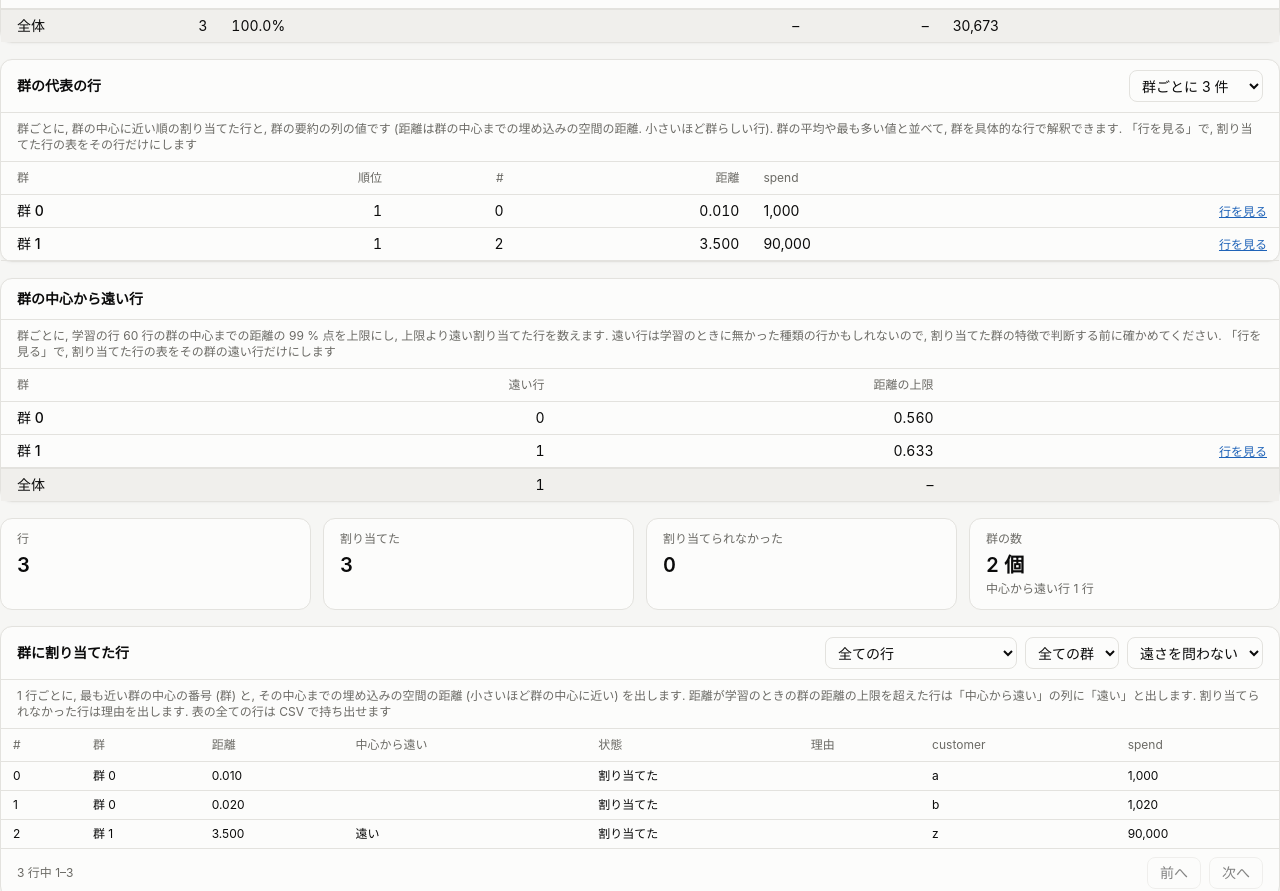
Test: 群の中心から遠い行のある群分けの結果の画面 › 群ごとの遠い行の件数と上限, 行の印を出し, 遠さで行を絞る
Later steps or results of the test are not shown.
(page scrolled)
Expected: the text "中心から遠い行 1 行" is shown, [986, 581, 1094, 596]
Expected: the column headings read "群", "遠い行", "距離の上限", "遠い行を見る", in this order, [1, 369, 279, 402]; [279, 369, 557, 402]; [557, 369, 946, 402]; [946, 369, 1279, 402]
Select "遠くない行" in the 4th dropdown named "遠さで絞る" at (1195,653), box [1127, 637, 1263, 669]
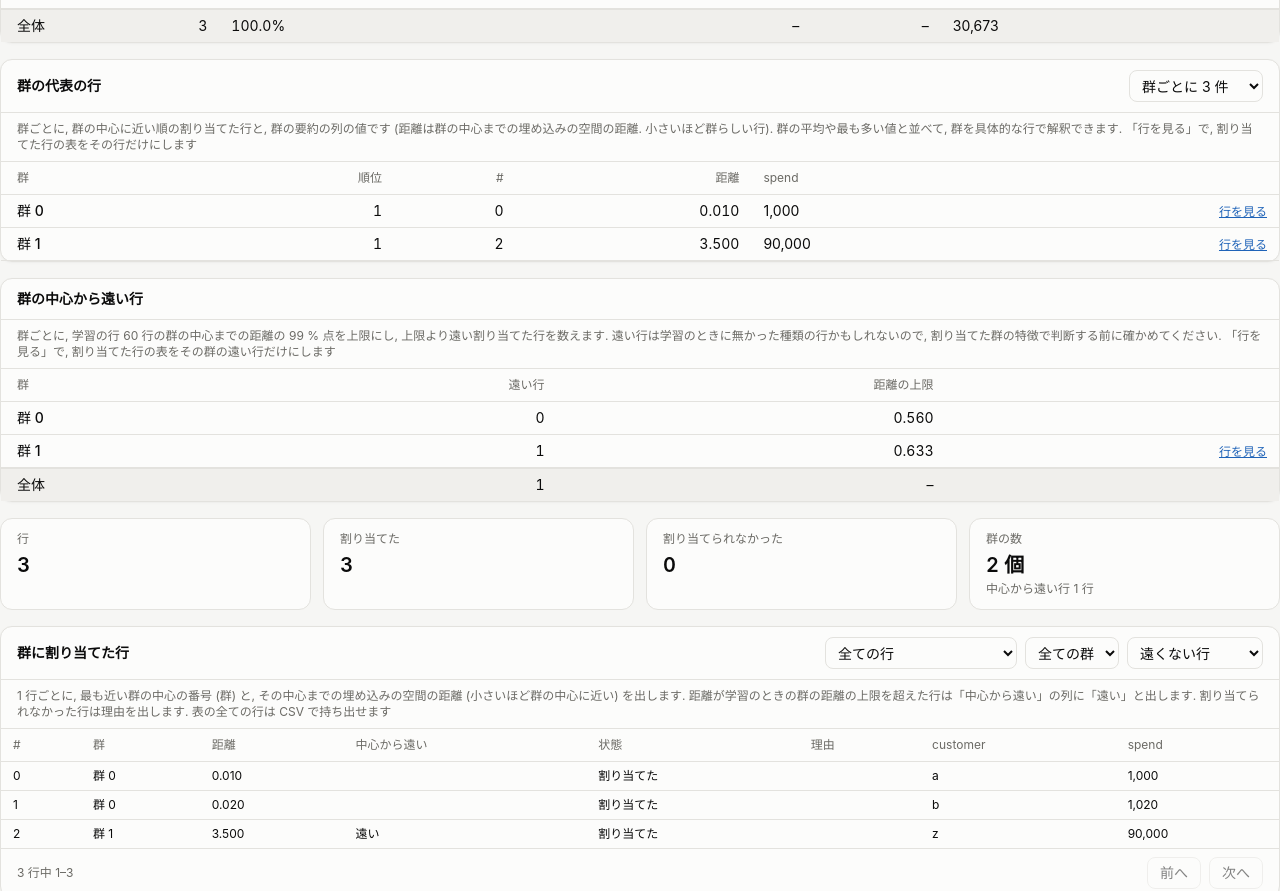
Select "遠さを問わない" in the 4th dropdown named "遠さで絞る" at (1195,653), box [1127, 637, 1263, 669]
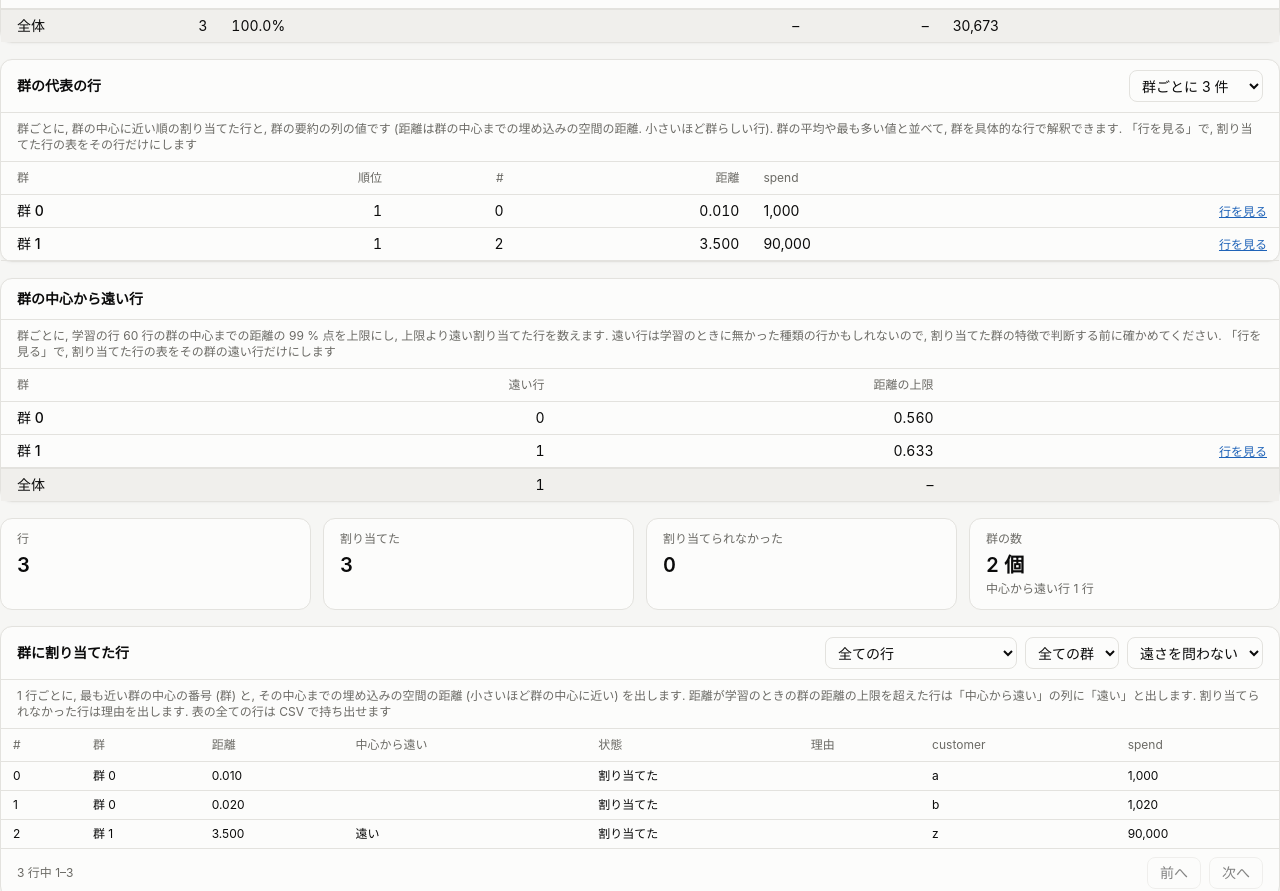
群の行の「行を見る」で, その群の遠い行だけにする (代表の行の 1 行の絞りは外す)
Click the button with aria-label "行を見る (群 1 の代表の行 #2)" at (1243,245), box [1219, 237, 1267, 253]
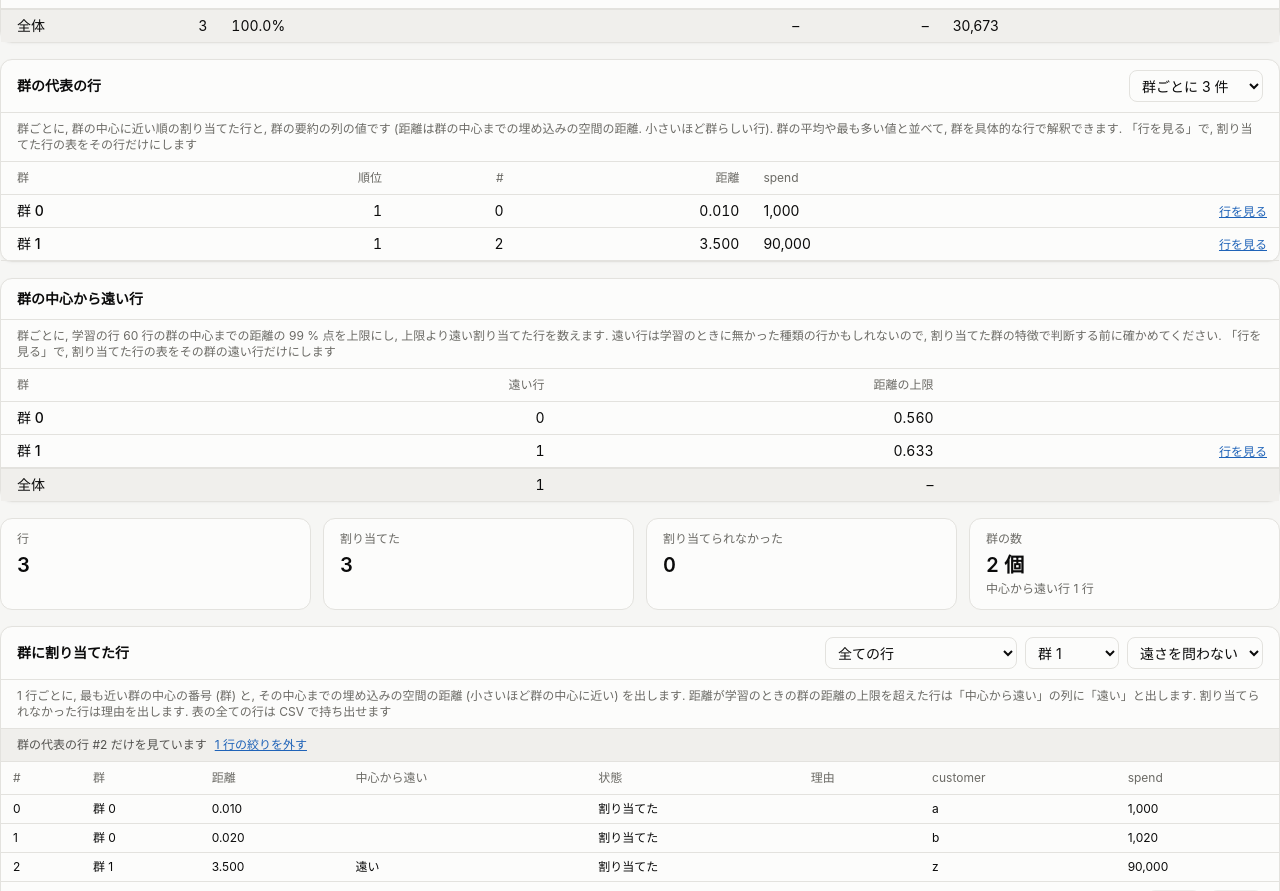
Click the button with aria-label "群 1 の遠い行を見る" at (1243,452), box [1219, 444, 1267, 460]
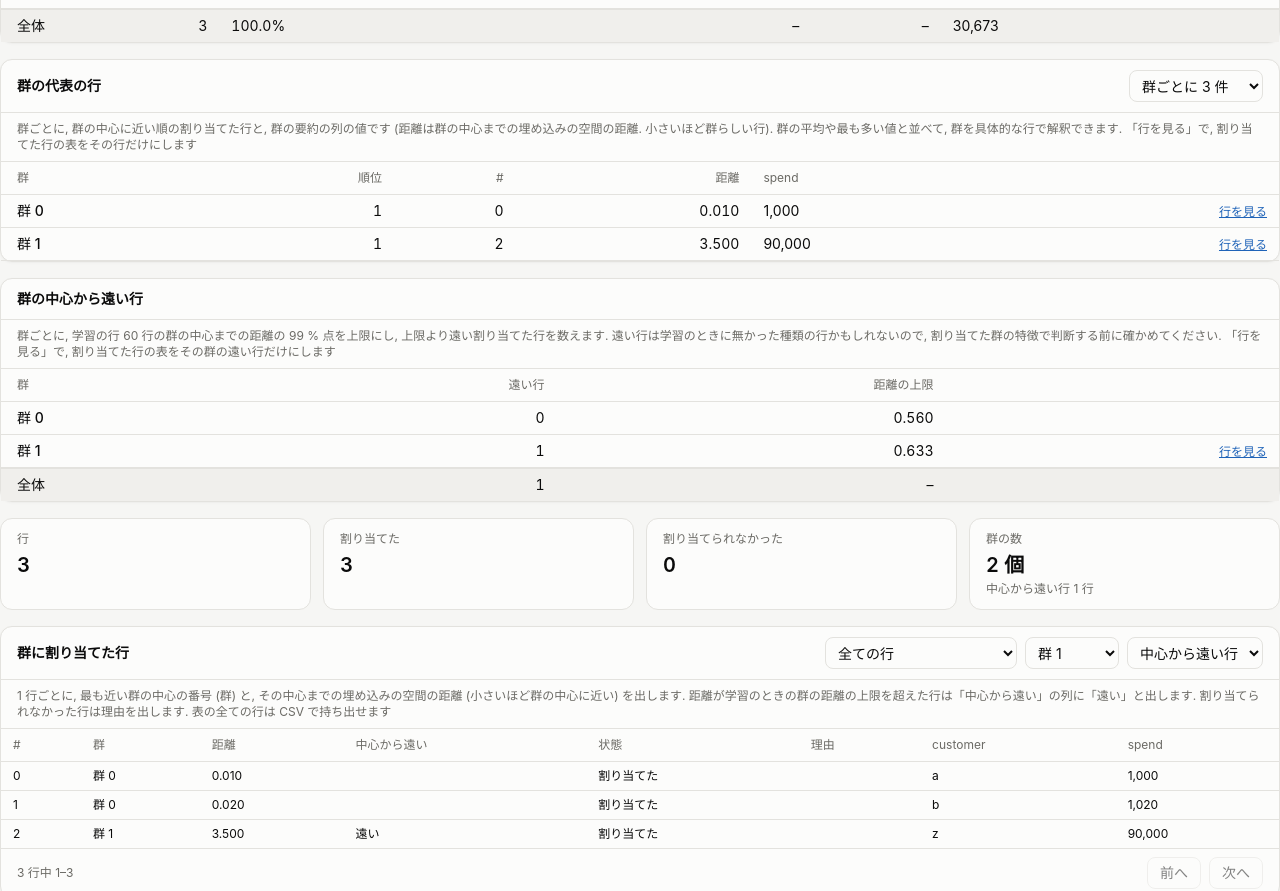
Expected: the 3rd dropdown named "群で絞る" shows "群 1", [1025, 637, 1119, 669]
